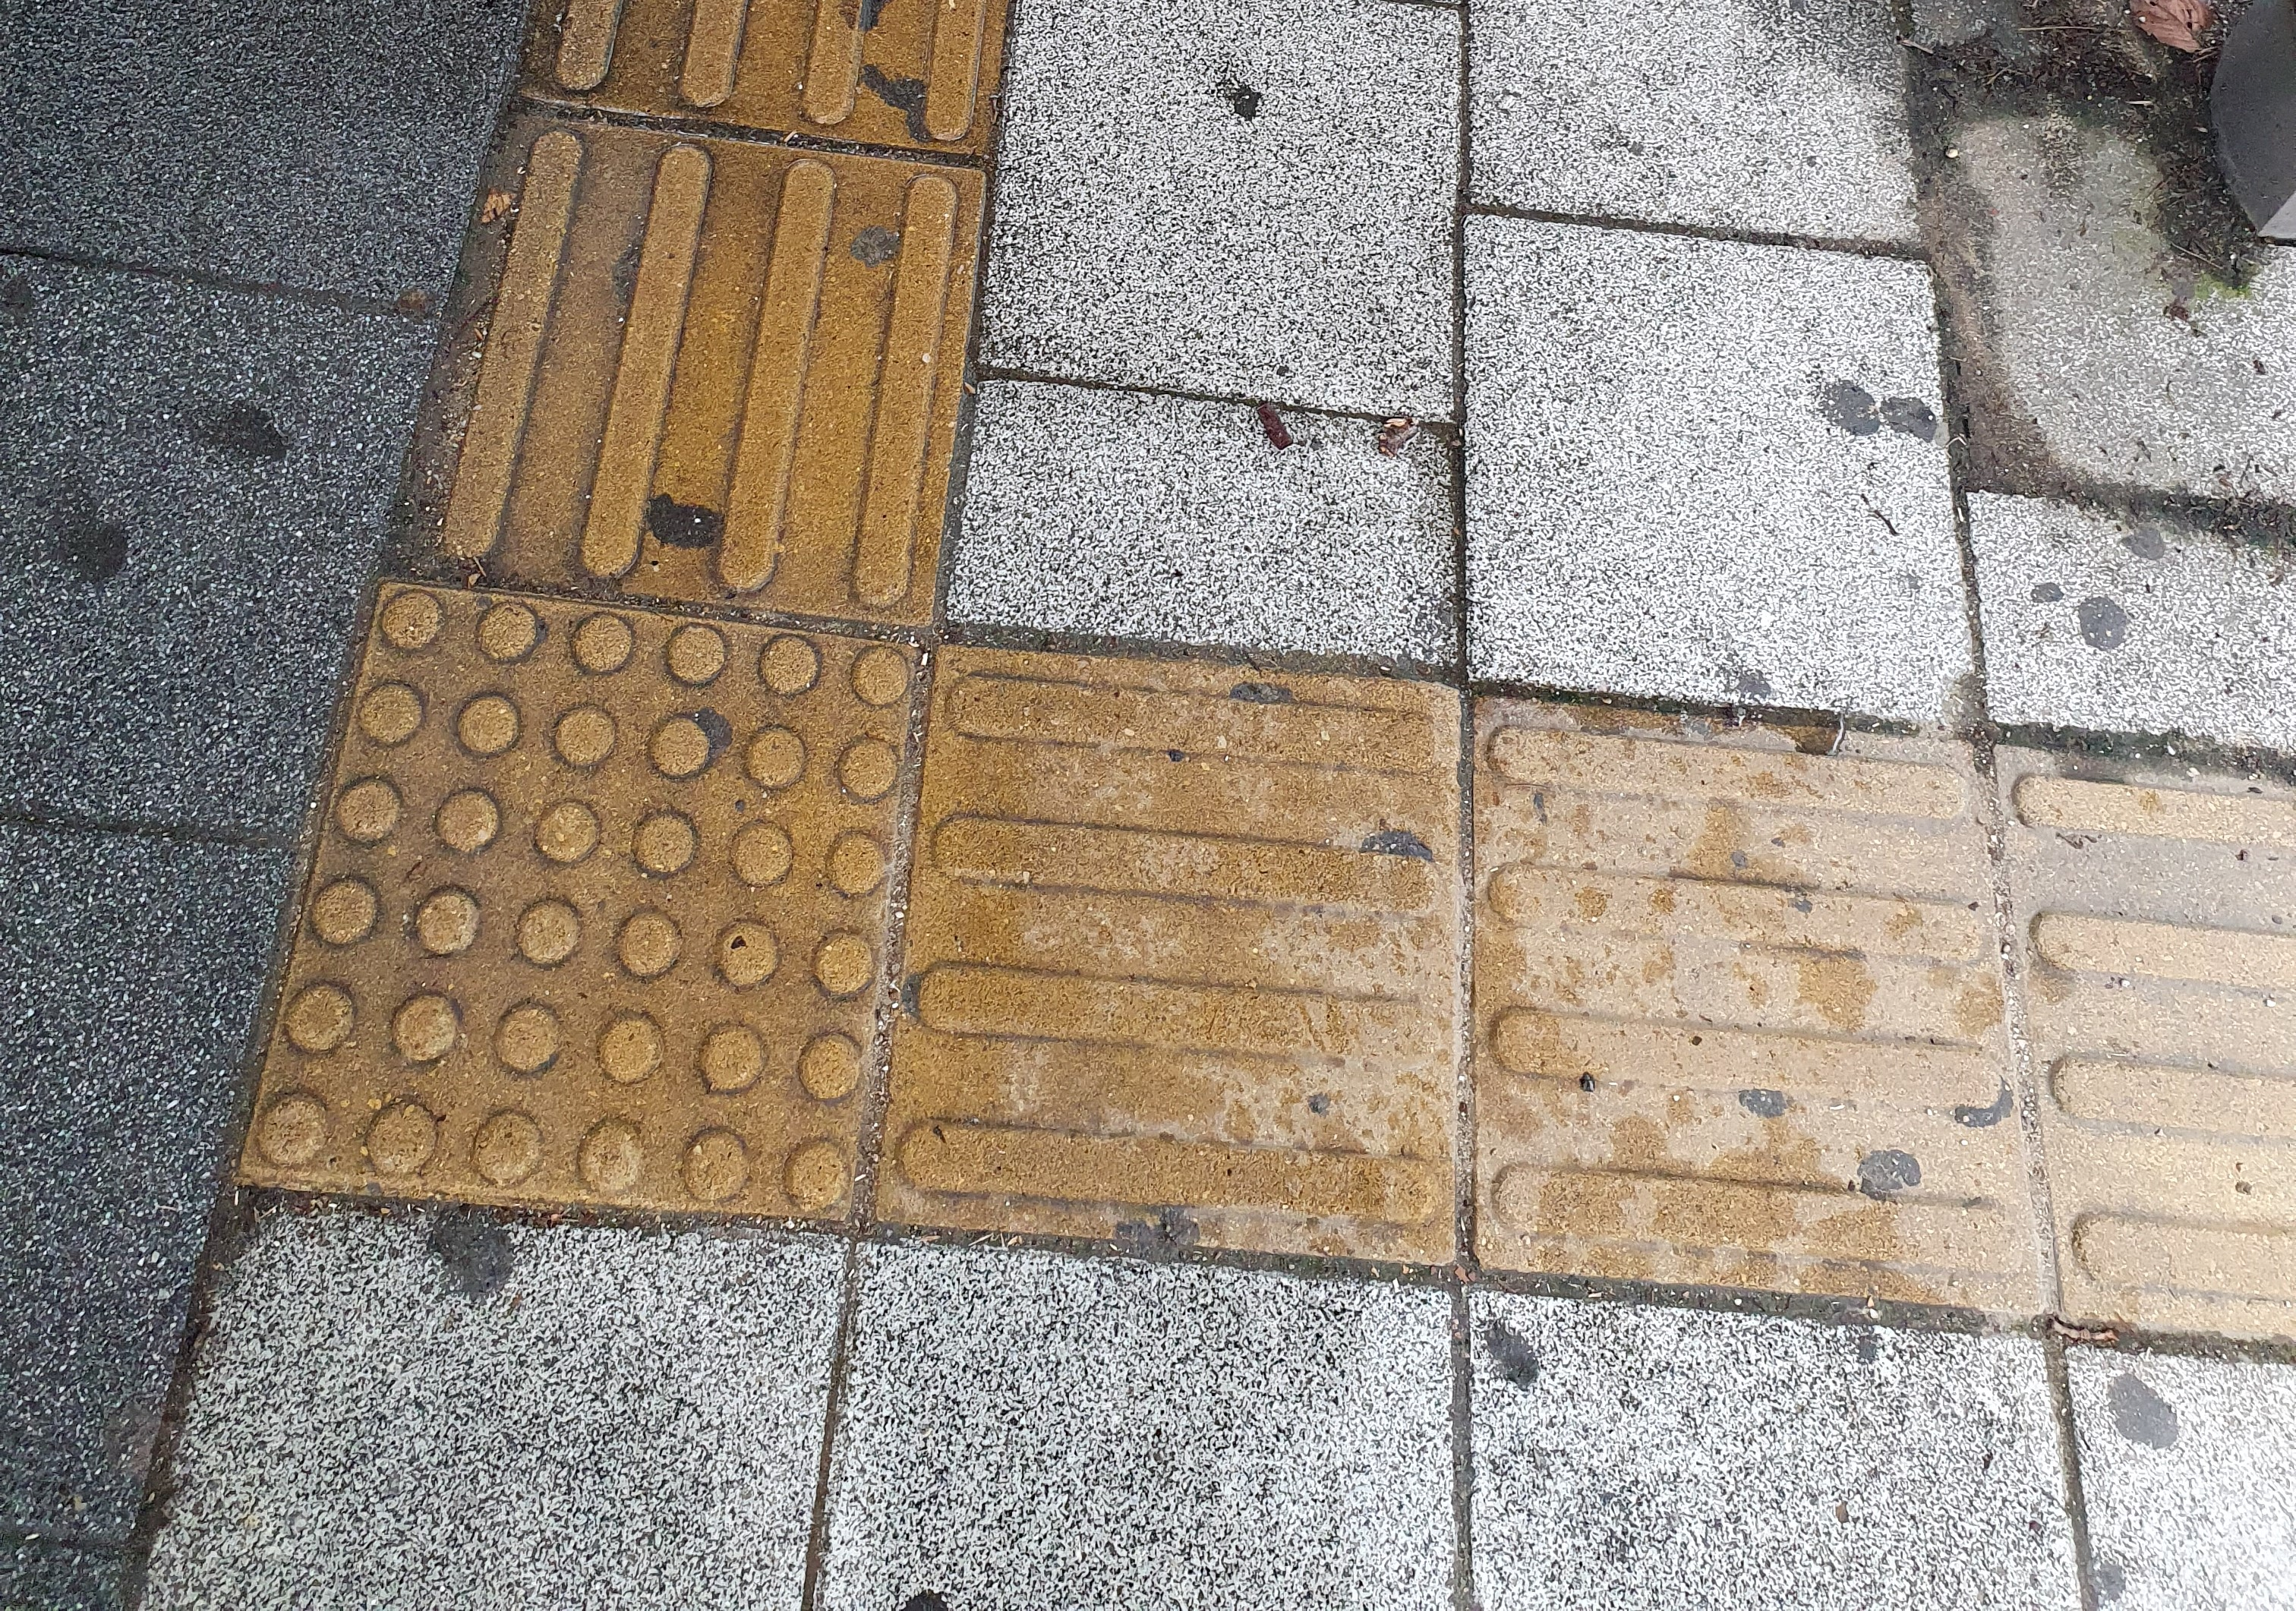guideBlock: (904, 660, 1518, 1243), (1485, 700, 1998, 1285), (469, 126, 970, 625), (2010, 714, 2296, 1375)
warningBlock: (298, 614, 930, 1213)
